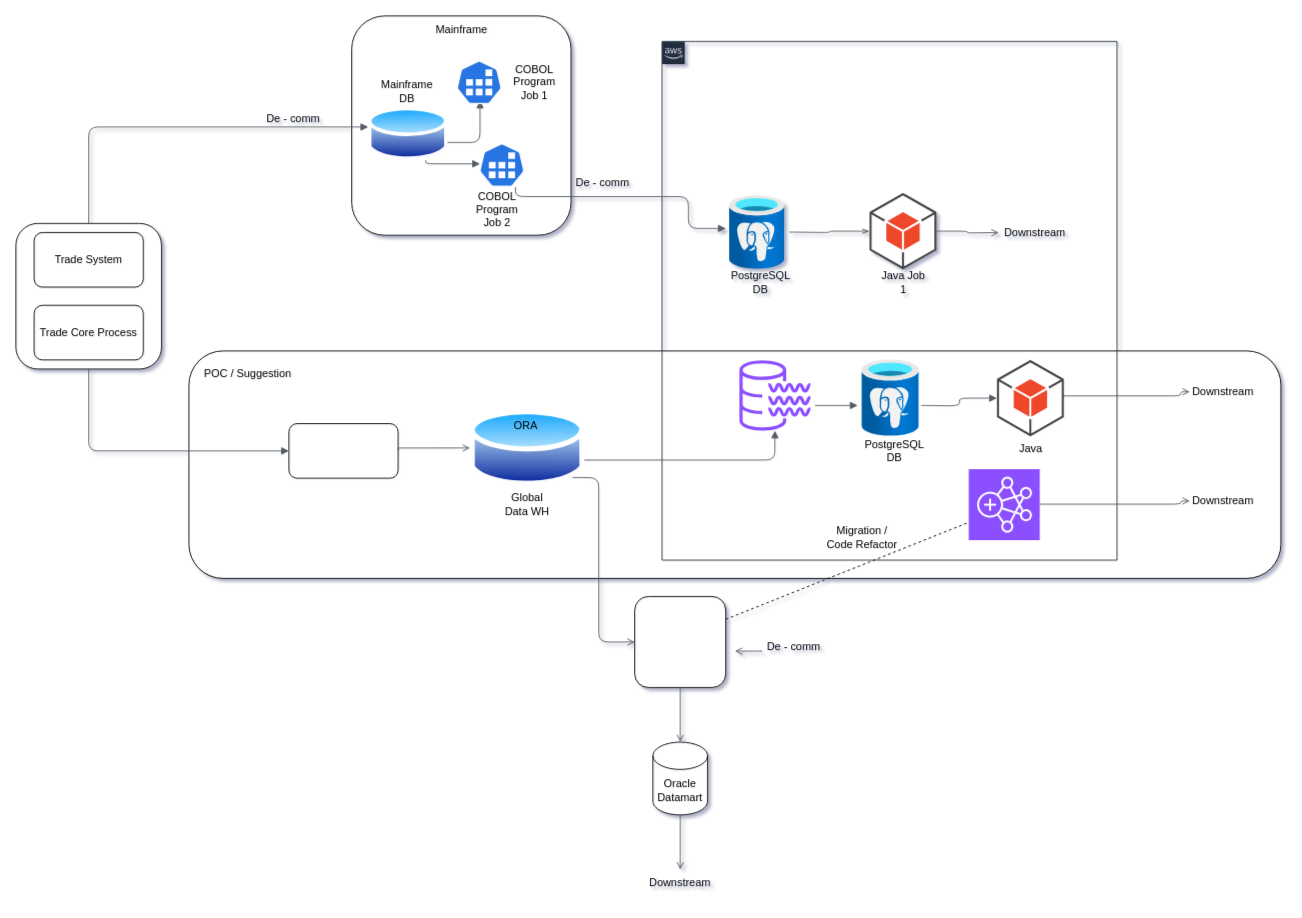
Image size: 1302x918. Some labels were removed from this diagram. Here are the shapes that lost their labels. From the top down, the centre of each, then its label:
At (x=343, y=450): "Informatica ETL".
At (x=680, y=642): "Cloudera Hadoop [Hive, Oozie & Spark (via SQOOP) ]".
